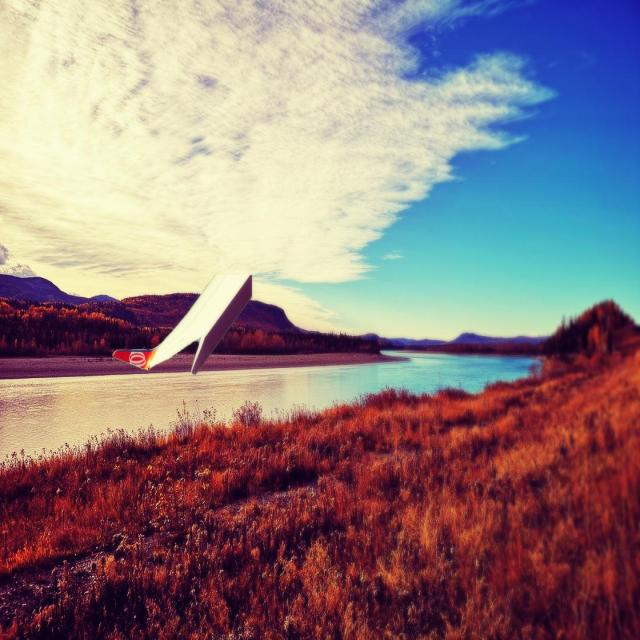airplane: (111, 270, 253, 374)
